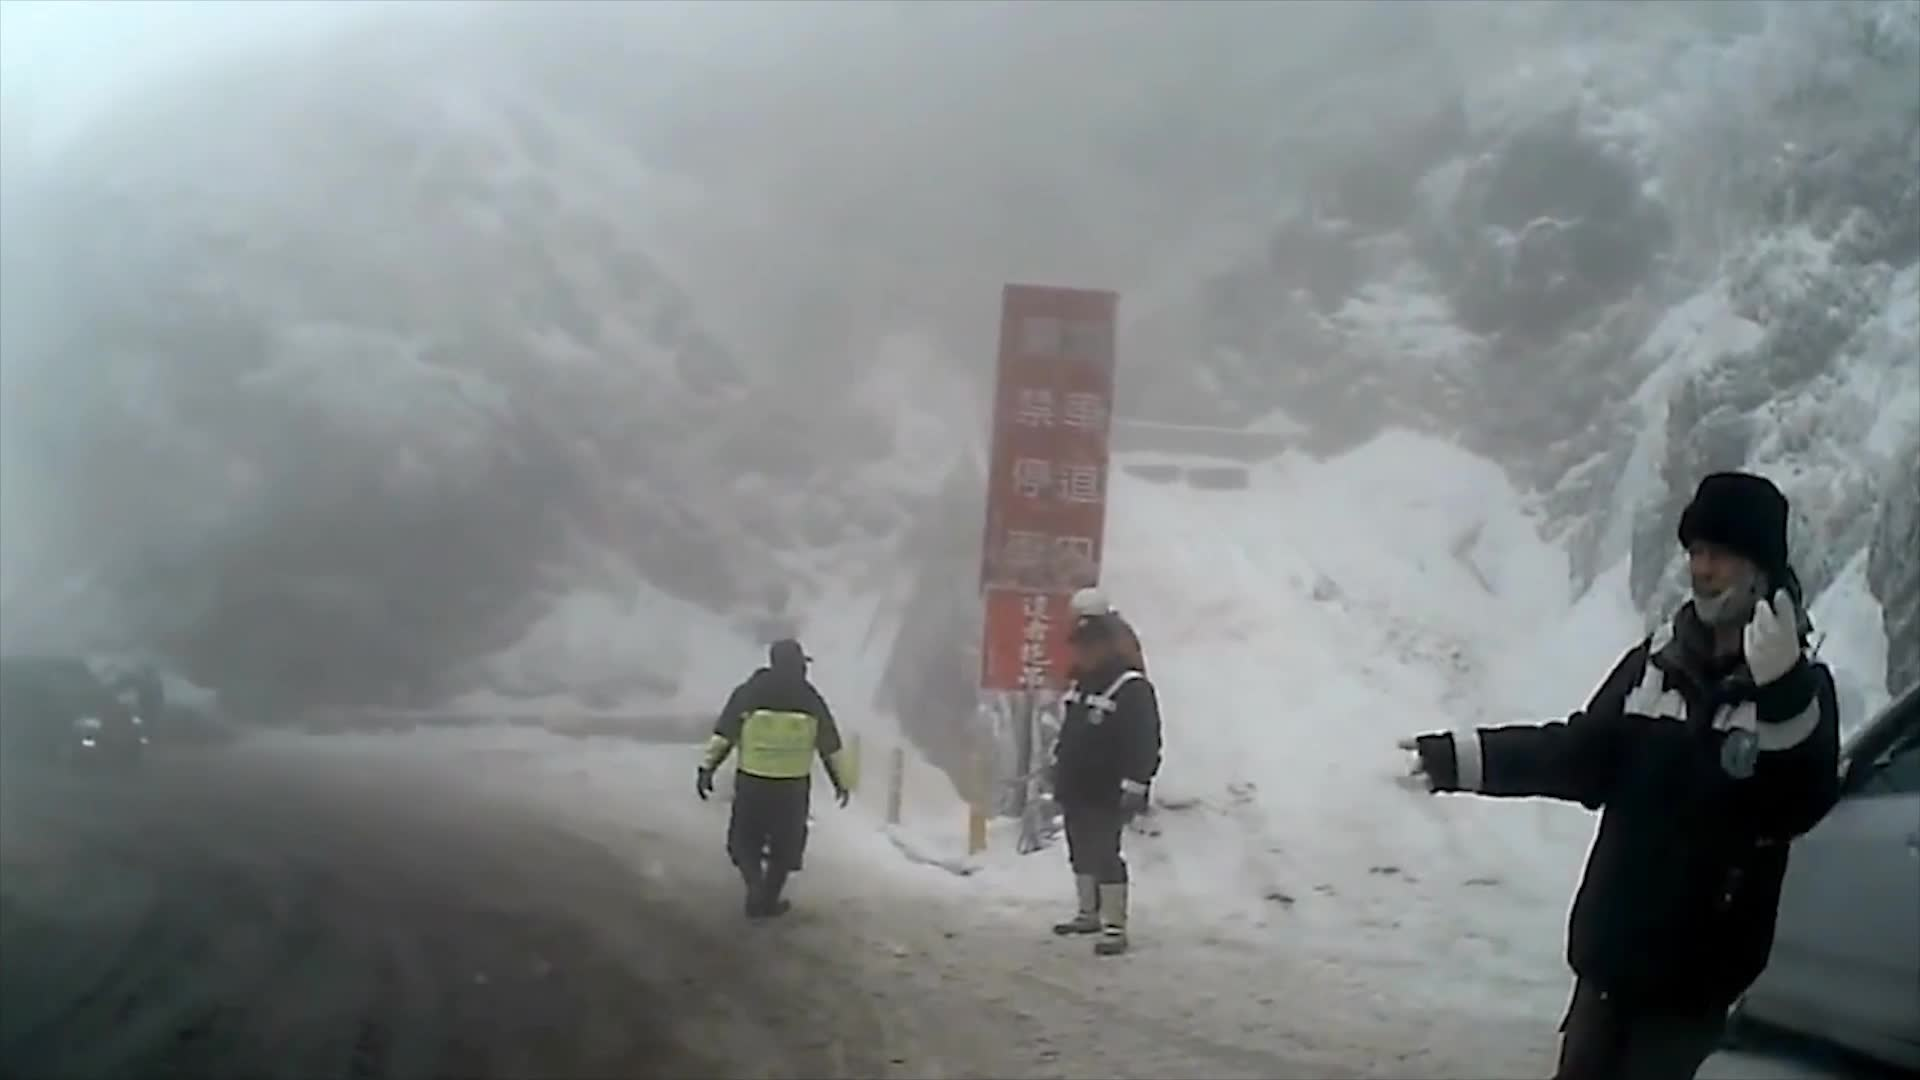pedestrian: (1396, 471, 1849, 1079), (697, 639, 842, 916), (1053, 612, 1167, 953)
vehicle: (1606, 674, 1919, 1079), (0, 656, 148, 777)
